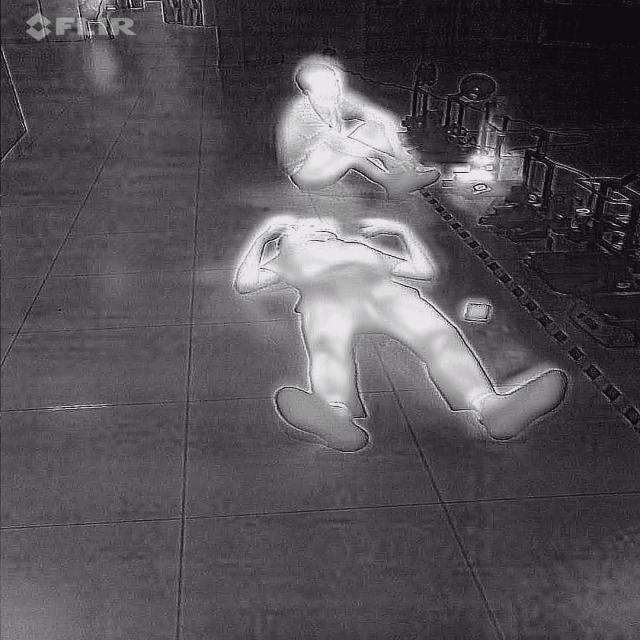Victim: (229, 212, 582, 452), (276, 54, 454, 201)
